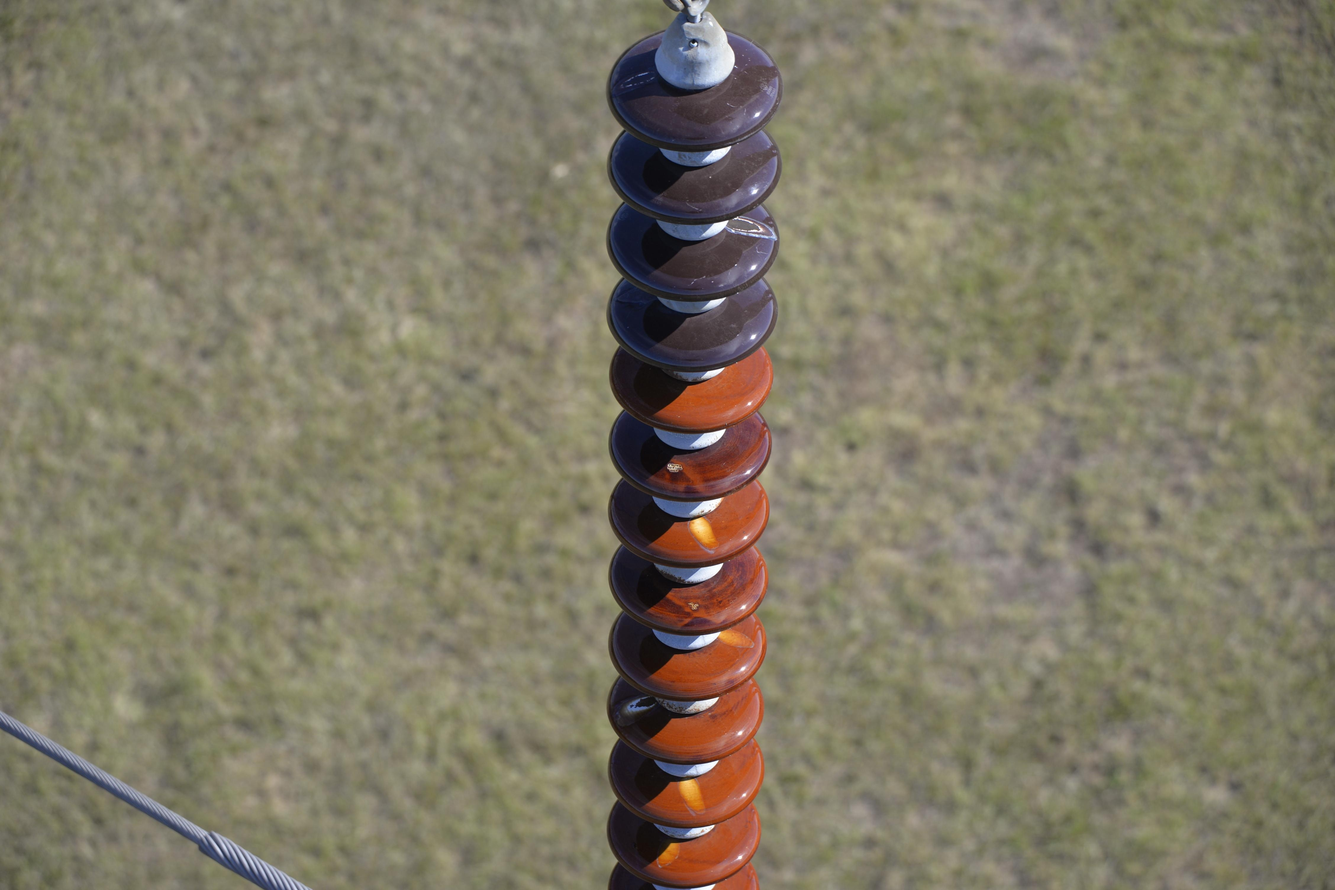Flashover: (720, 209, 779, 246), (676, 775, 712, 820), (687, 514, 720, 553), (712, 621, 755, 650), (616, 691, 661, 715), (620, 63, 657, 92), (656, 834, 685, 869)
insulator: (603, 23, 780, 889)
